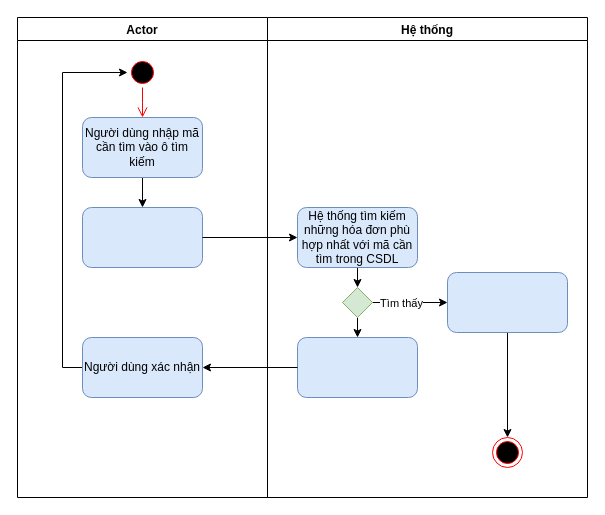
This 605x515 diagram has some shape labels left out. Here are the shapes that lost their labels. From the top down, the centre of each, then its label:
the point at 142,237: Người dùng nhấn Enter hoặc chọn "Tìm kiếm"
the point at 507,302: Hệ thống hiển thị danh sách những hóa đơn tìm được lên màn hình
the point at 357,367: Hệ thống hiển thị thống báo không tìm thấy hóa đơn phù hợp.
